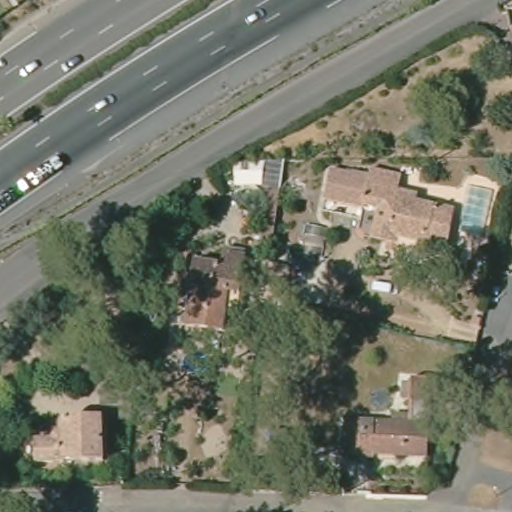pool: (457, 180, 497, 247)
